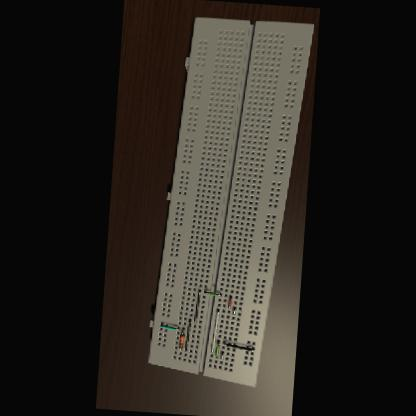breadboard: (146, 13, 314, 388)
resistor: (178, 333, 184, 348)
wire: (212, 308, 219, 352), (224, 340, 254, 350), (185, 318, 191, 350), (195, 290, 201, 322), (161, 322, 180, 329), (205, 290, 221, 295), (216, 339, 220, 357), (229, 294, 232, 308), (221, 350, 223, 358), (234, 306, 236, 314), (183, 328, 184, 334), (180, 348, 182, 349)
